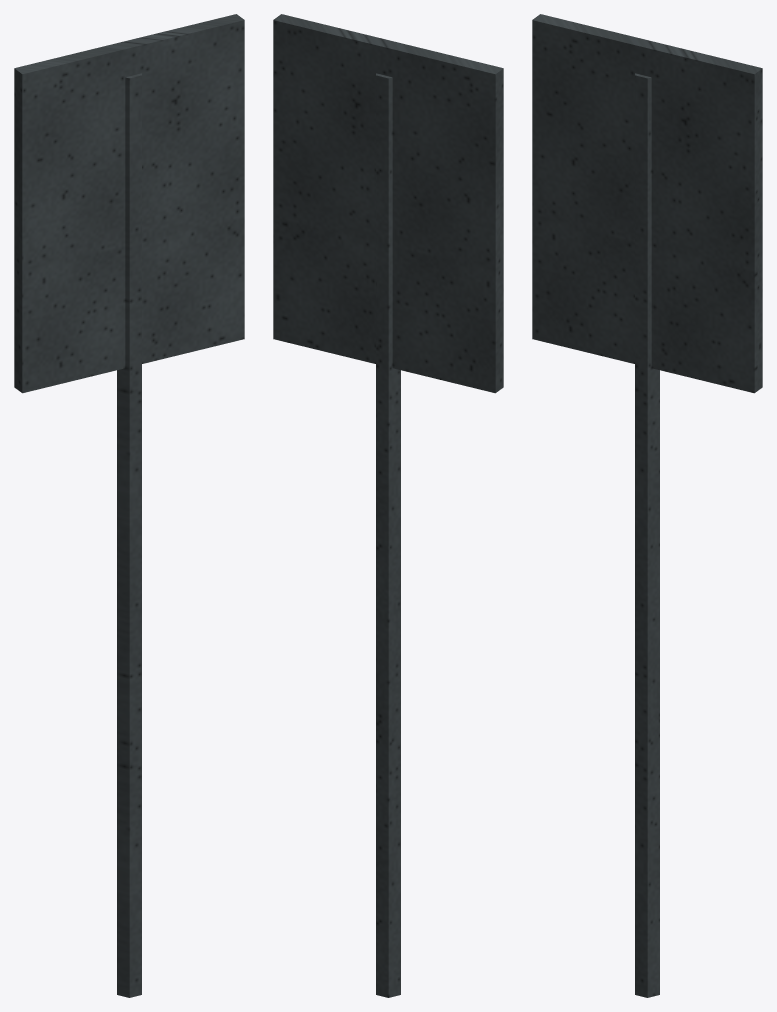
Rendered from PROP-EBB3495928BE_lod2.glb.
3 renders of one model, left to right at view 1: azimuth 30°, elevation 25°; view 2: azimuth 150°, elevation 25°; view 3: azimuth 330°, elevation 25°, orthographic.
Visible parts, largest first — view 1: sign_plate.022, sign_post.029; view 2: sign_plate.022, sign_post.029; view 3: sign_plate.022, sign_post.029.
Boxes of the visible parts, x1,y1,x2,y2 form: sign_plate.022: [14, 14, 244, 393]; sign_post.029: [117, 73, 141, 997]; sign_plate.022: [273, 14, 503, 393]; sign_post.029: [376, 73, 400, 997]; sign_plate.022: [532, 14, 762, 393]; sign_post.029: [635, 73, 659, 997].
Bounding box in the file's own units: 0.62 × 2.52 × 0.0606.
Materials: 1 (1 with a texture image).
